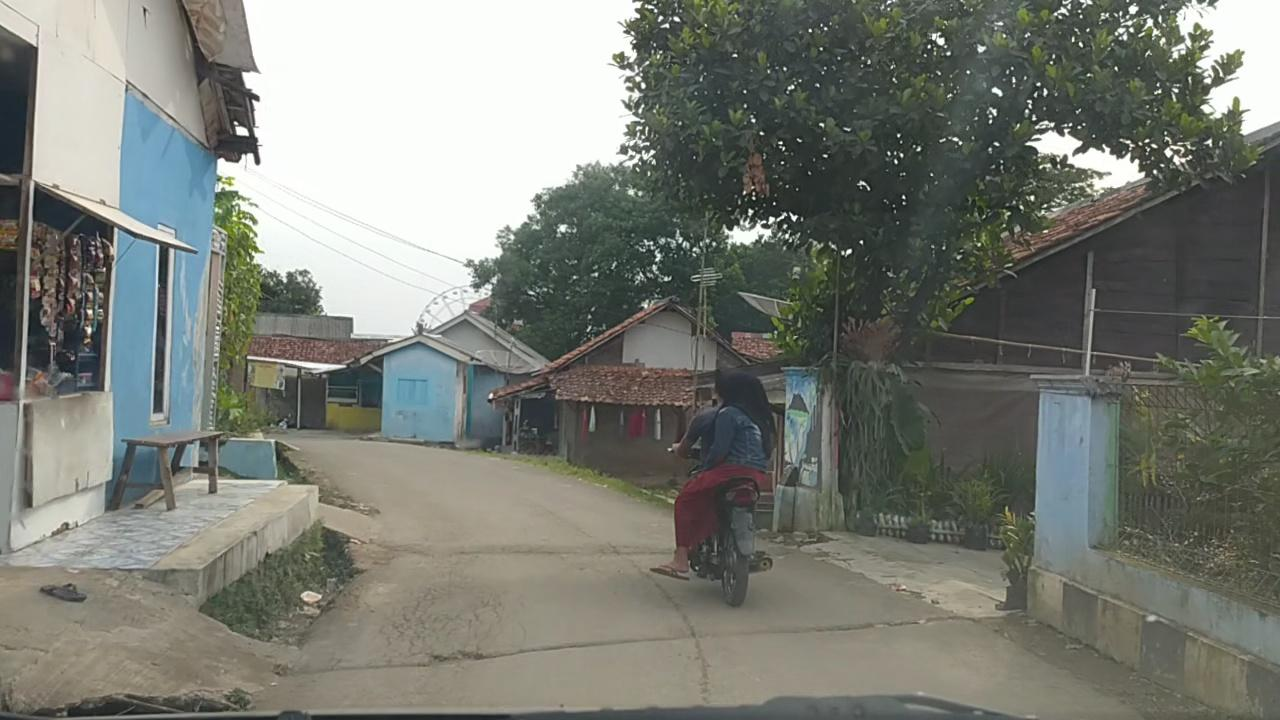pothole: (419, 647, 488, 667)
